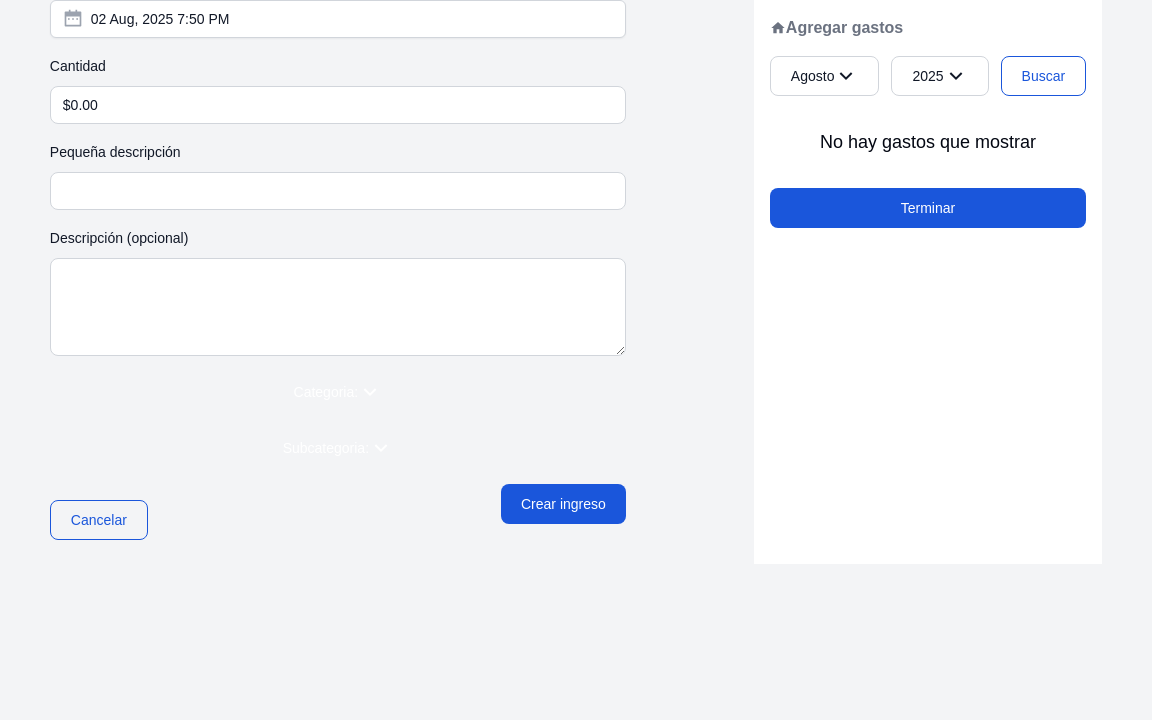
Scenario: IncomeTemplate › Form validations › Given a user clicking on create expense, show validation error for short description to be required
Click the button "Crear ingreso" at (563, 504), box x1=501 y1=484 x2=626 y2=524
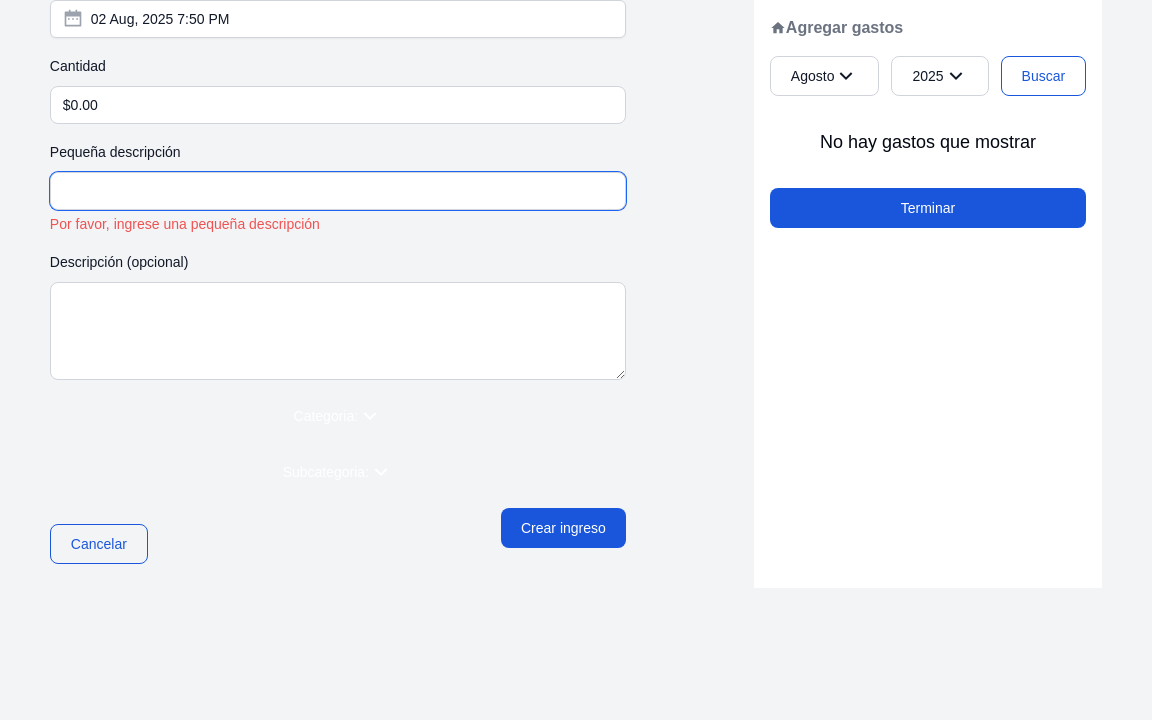
Expected: the text "Por favor, ingrese una pequeña descripción" is shown, x1=50 y1=216 x2=320 y2=232
